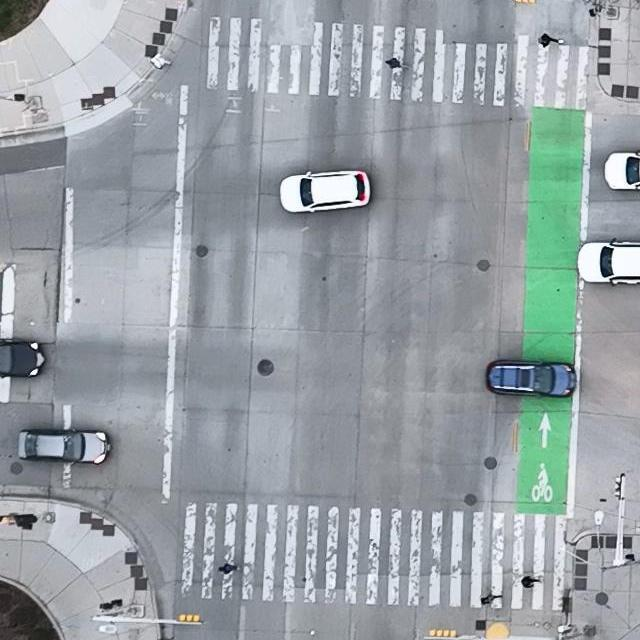car: (278, 168, 372, 214), (17, 426, 113, 465), (486, 358, 577, 397), (578, 238, 640, 286), (0, 340, 45, 377), (603, 150, 640, 193)
